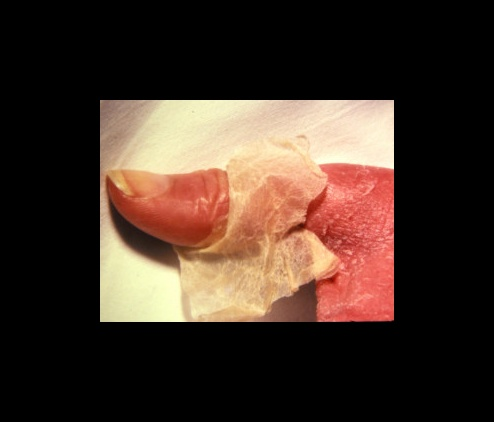SJS-TEN: (106, 123, 395, 325)
